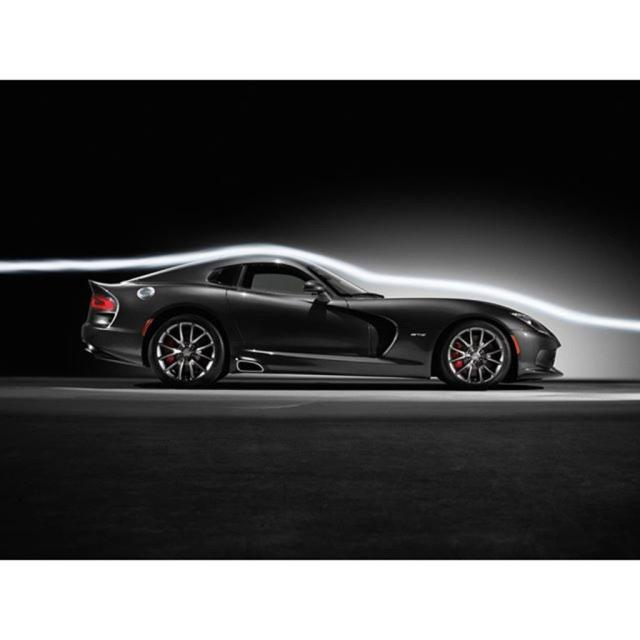car: (77, 252, 562, 389)
